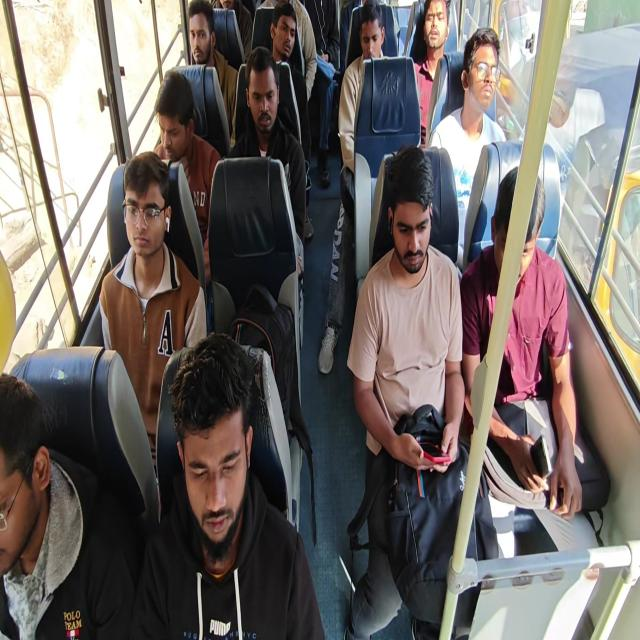person: (174, 338, 255, 564), (0, 368, 54, 592), (488, 156, 547, 306), (386, 148, 448, 273), (235, 47, 291, 151), (120, 153, 174, 260), (462, 24, 508, 120), (154, 68, 199, 153), (358, 2, 387, 74), (418, 0, 454, 55), (271, 0, 301, 64), (188, 4, 216, 64)
